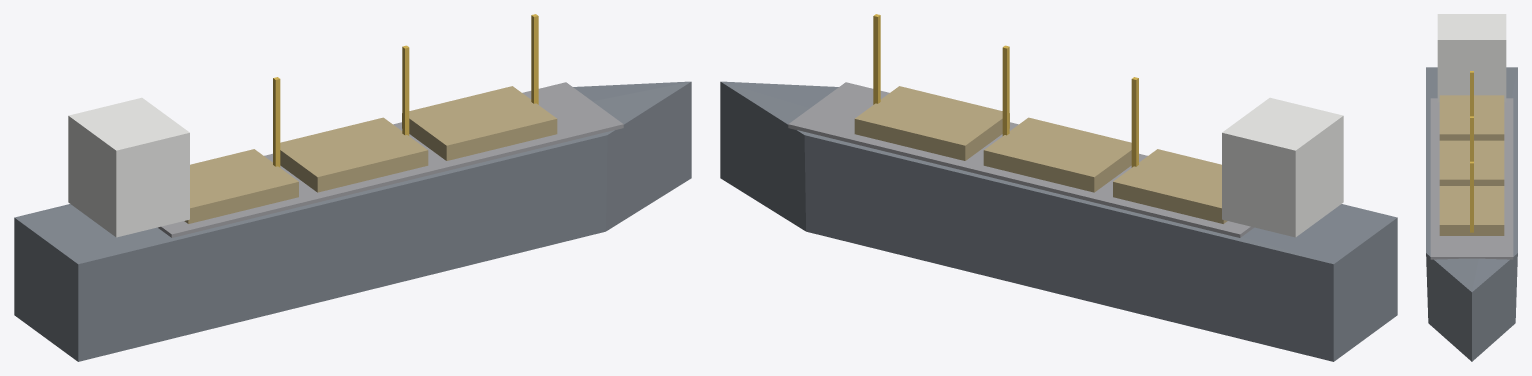
Rendered from cargo.glb.
3 renders of one model, left to right at view 1: azimuth 30°, elevation 25°; view 2: azimuth 150°, elevation 25°; view 3: azimuth 270°, elevation 25°, orthographic. The views are drawn at different scales.
Parts seen in each view (by area): view 1: hull, house, deck, hatch2, hatch1, hatch0, crane0, crane1, crane2; view 2: hull, house, deck, hatch2, hatch1, hatch0, crane0, crane1, crane2; view 3: hull, house, deck, hatch2, hatch0, hatch1, crane2, crane0, crane1.
Part boxes in pixels (<box>): hull: <box>14,81,691,361</box>; house: <box>68,97,189,237</box>; deck: <box>158,82,623,237</box>; hatch2: <box>402,86,557,160</box>; hatch1: <box>280,117,428,192</box>; hatch0: <box>184,149,298,223</box>; crane0: <box>273,77,280,167</box>; crane1: <box>402,45,409,135</box>; crane2: <box>531,14,538,104</box>; hull: <box>720,81,1397,361</box>; house: <box>1222,97,1343,237</box>; deck: <box>788,82,1253,237</box>; hatch2: <box>854,86,1009,160</box>; hatch1: <box>983,117,1131,192</box>; hatch0: <box>1113,149,1227,223</box>; crane0: <box>1131,77,1138,167</box>; crane1: <box>1002,45,1009,135</box>; crane2: <box>873,14,880,104</box>; hull: <box>1426,67,1517,361</box>; house: <box>1437,14,1506,102</box>; deck: <box>1430,98,1513,259</box>; hatch2: <box>1439,186,1504,235</box>; hatch0: <box>1439,95,1504,140</box>; hatch1: <box>1439,140,1504,185</box>; crane2: <box>1470,161,1473,232</box>; crane0: <box>1470,71,1473,116</box>; crane1: <box>1470,116,1473,161</box>.
Bounding box in the file's own units: 70 × 21.12 × 12.
